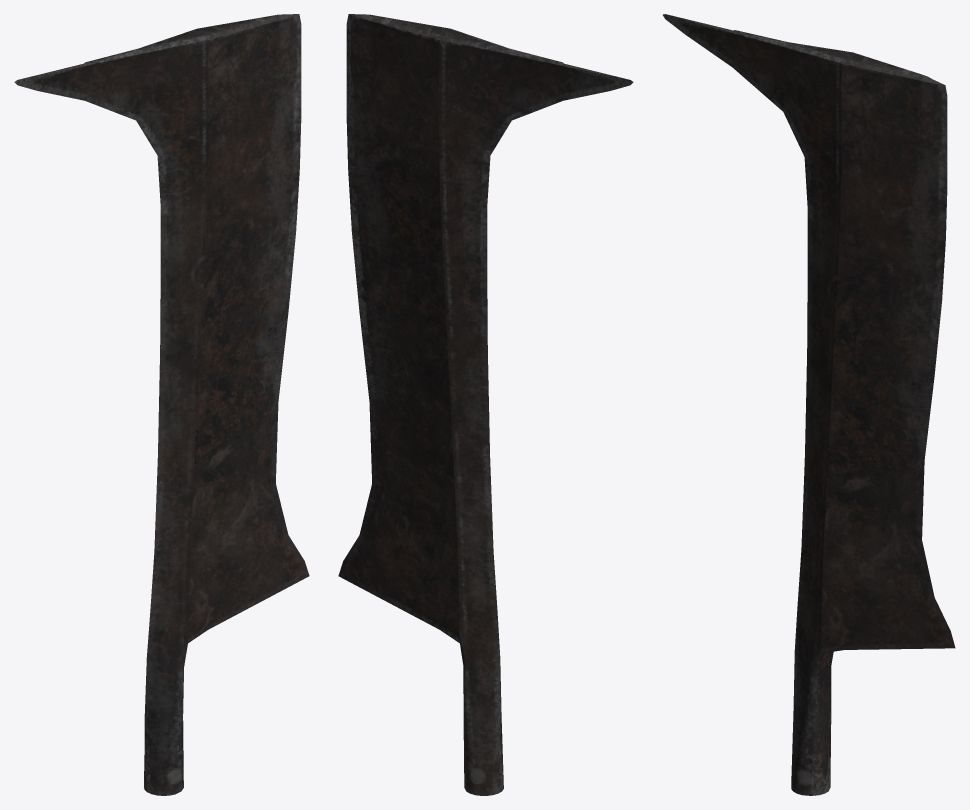
The model's file is wm_dol_goldur_halberd_a04_blade.fbx.
3 renders of one model, left to right at view 1: azimuth 30°, elevation 25°; view 2: azimuth 150°, elevation 25°; view 3: azimuth 330°, elevation 25°, orthographic.
Parts seen in each view (by area): view 1: wm_dol_goldur_halberd_a04_blade; view 2: wm_dol_goldur_halberd_a04_blade; view 3: wm_dol_goldur_halberd_a04_blade.
Part boxes in pixels (bbox=[...]): wm_dol_goldur_halberd_a04_blade: bbox=[14, 14, 309, 795]; wm_dol_goldur_halberd_a04_blade: bbox=[338, 14, 633, 795]; wm_dol_goldur_halberd_a04_blade: bbox=[663, 14, 955, 795].
Bounding box in the file's own units: 0.2759 × 0.0324 × 0.6664.
1 material, 1 textured.
